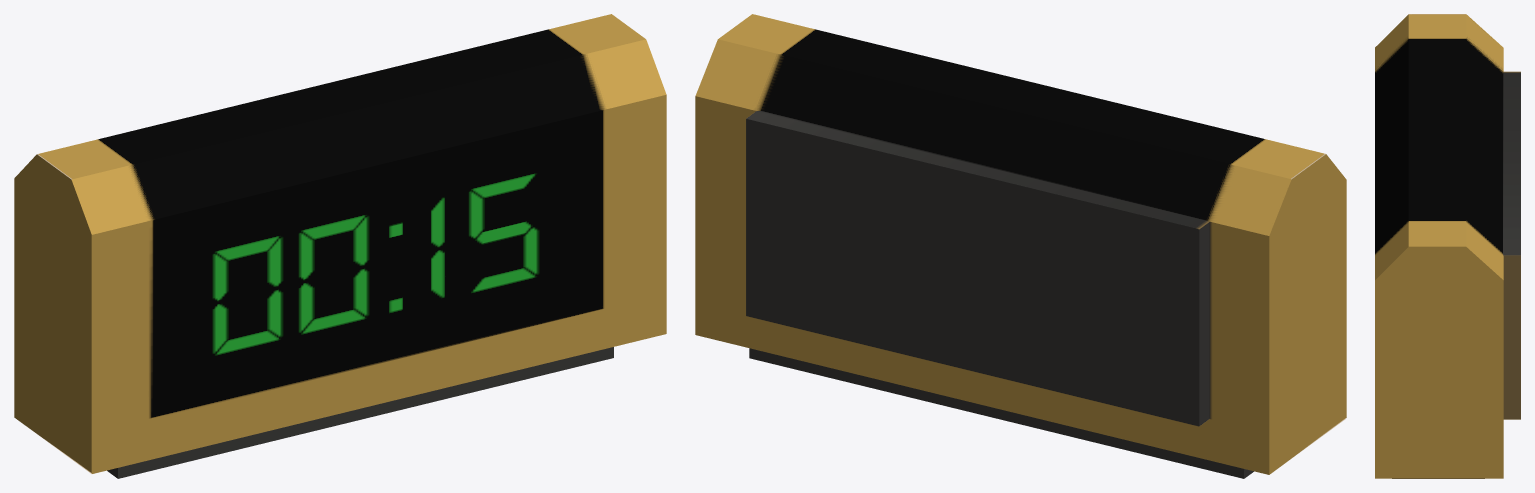
Rendered from jam digital.fbx.
The picture shows the model from 3 angles, left to right: view 1: azimuth 30°, elevation 25°; view 2: azimuth 150°, elevation 25°; view 3: azimuth 270°, elevation 25°; orthographic projection. The views are drawn at different scales.
Visible parts, largest first — view 1: Cube; view 2: Cube; view 3: Cube.
Boxes of the visible parts, left/top/right/bottom form: Cube: left=14, top=14, right=666, bottom=478; Cube: left=695, top=14, right=1346, bottom=478; Cube: left=1375, top=14, right=1520, bottom=478.
Size of the model in its own units: 325 by 163 by 86.23.
Materials: 1 (1 with a texture image).
